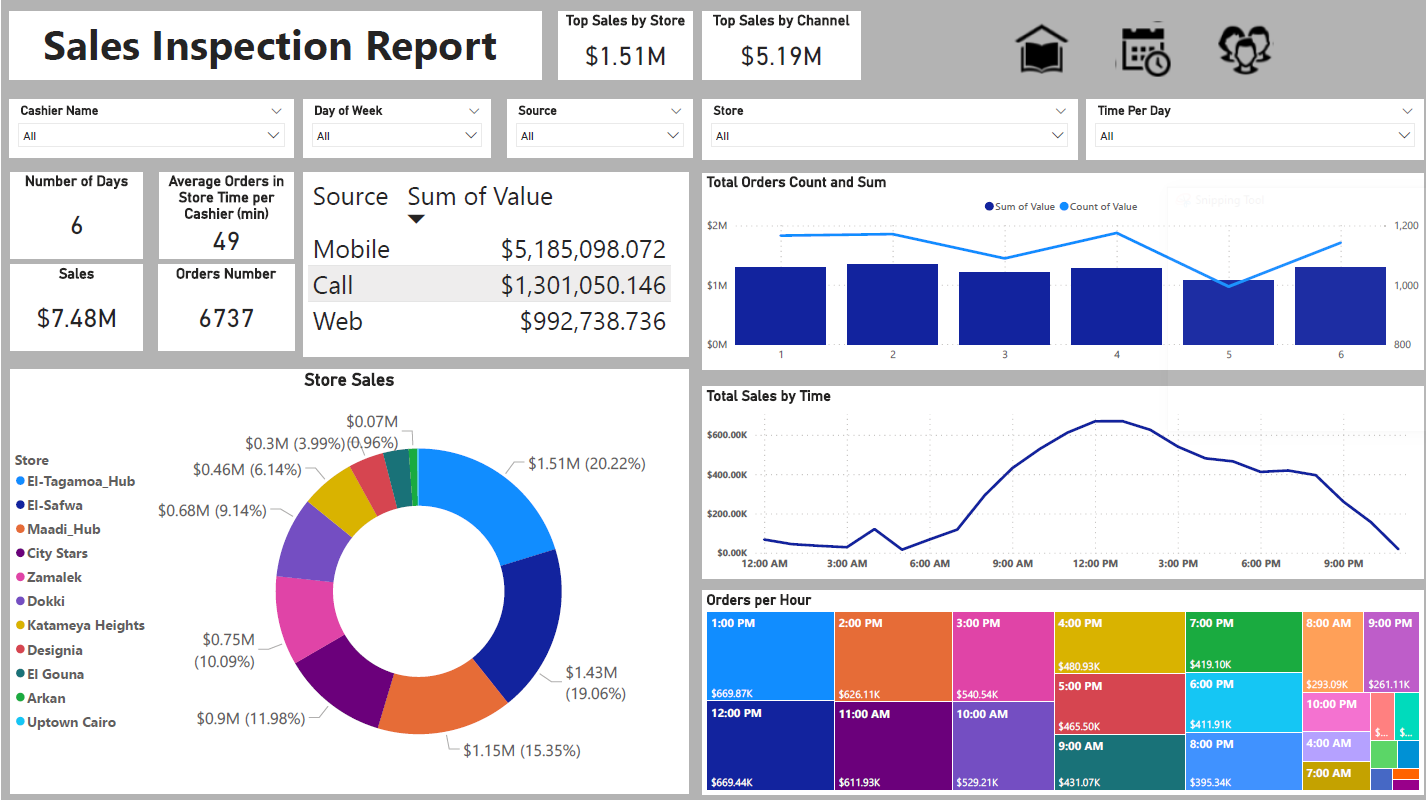

This screenshot's page, from the dashboard's own definition file:
{"tool":"powerbi","page":{"name":"Sales  Inspection Report ","canvas":[1664,936],"ordinal":2},"visuals":[{"type":"card","title":"Sales","fields":{"Values":["Sales.Value"]},"box":[10,307.5,153.8,100],"z":0},{"type":"card","title":"Orders Number","fields":{"Values":["Sales.Source"]},"box":[182.5,307.5,157.5,100],"z":1000},{"type":"card","title":"Number of Days","fields":{"Values":["JoinedTable.CreatedDay"]},"box":[10,200,153.8,100],"z":2000},{"type":"card","title":"Average Orders in Store Time per Cashier (min)","fields":{"Values":["JoinedTable.Column"]},"box":[183.8,200,156.2,100],"z":3000},{"type":"slicer","fields":{"Values":["JoinedTable.CashierName"]},"box":[9.4,114.2,329.7,68.3],"z":4000},{"type":"slicer","fields":{"Values":["JoinedTable.CreatedDay"]},"box":[350.9,114.2,217.9,68.3],"z":5000},{"type":"slicer","fields":{"Values":["JoinedTable.Store"]},"box":[815.2,114.4,436.2,69.5],"z":6000},{"type":"slicer","fields":{"Values":["JoinedTable.Source"]},"box":[588.8,114.2,215.5,68.3],"z":7000},{"type":"slicer","fields":{"Values":["Sales.CreatedHour (bins)"]},"box":[1262.6,114.4,392.5,69.5],"z":8000},{"type":"textbox","box":[9.4,13,619.4,78.9],"z":9000},{"type":"lineClusteredColumnComboChart","title":"Total Orders Count and Sum","fields":{"Category":["Sales.CreatedAtStore.Variation.Date Hierarchy.Day","Sales.CreatedHour (bins)"],"Y":["Sales.Value"],"Y2":["Sales.Value"]},"box":[815.3,200.5,839.4,228.5],"z":10000},{"type":"lineChart","title":"Total Sales by Time","fields":{"Category":["Sales.CreatedAtStore.Variation.Date Hierarchy.Day","Sales.CreatedHour (bins)"],"Y":["Sales.Value"]},"box":[815.3,449.1,839.4,223.2],"z":11000},{"type":"donutChart","title":"Store Sales","fields":{"Category":["JoinedTable.Store"],"Y":["JoinedTable.Value"]},"box":[10,428.6,788.6,494.3],"z":12000},{"type":"treemap","title":"Orders per Hour","fields":{"Values":["Sales.Value"],"Group":["Sales.CreatedHour (bins)"]},"box":[815.3,687,839.4,236.6],"z":13000},{"type":"tableEx","fields":{"Values":["JoinedTable.Source","JoinedTable.Value"]},"box":[351.2,200,447.5,213.8],"z":14000},{"type":"card","title":"Top Sales by Store","fields":{"Values":["Sales.Value max per Store"]},"box":[647.5,12.5,156.2,78.8],"z":15000},{"type":"card","title":"Top Sales by Channel","fields":{"Values":["JoinedTable.Value max per Source"]},"box":[815,12.5,183.8,78.8],"z":16000},{"type":"actionButton","box":[1174.9,20.4,76.6,71.5],"z":17000},{"type":"actionButton","box":[1292.4,20.4,76.6,71.5],"z":18000},{"type":"actionButton","box":[1411.1,20.4,76.6,71.5],"z":19000}]}

Visuals, with their boxes in screenshot pixels (x1, y1, x2, y2), scaled from the page's 1664x936 canvas onto the 1426x800 screenshot:
"Sales" card: 9, 263, 140, 348
"Orders Number" card: 156, 263, 291, 348
"Number of Days" card: 9, 171, 140, 256
"Average Orders in Store Time per Cashier (min)" card: 158, 171, 291, 256
slicer - JoinedTable.CashierName: 8, 98, 291, 156
slicer - JoinedTable.CreatedDay: 301, 98, 487, 156
slicer - JoinedTable.Store: 699, 98, 1072, 157
slicer - JoinedTable.Source: 505, 98, 689, 156
slicer - Sales.CreatedHour (bins): 1082, 98, 1418, 157
textbox: 8, 11, 539, 79
"Total Orders Count and Sum" lineClusteredColumnComboChart: 699, 171, 1418, 367
"Total Sales by Time" lineChart: 699, 384, 1418, 575
"Store Sales" donutChart: 9, 366, 684, 789
"Orders per Hour" treemap: 699, 587, 1418, 789
tableEx - JoinedTable.Source x JoinedTable.Value: 301, 171, 684, 354
"Top Sales by Store" card: 555, 11, 689, 78
"Top Sales by Channel" card: 698, 11, 856, 78
actionButton: 1007, 17, 1072, 79
actionButton: 1108, 17, 1173, 79
actionButton: 1209, 17, 1275, 79
